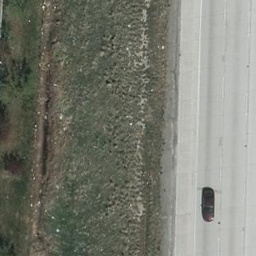car: (199, 189, 216, 219)
